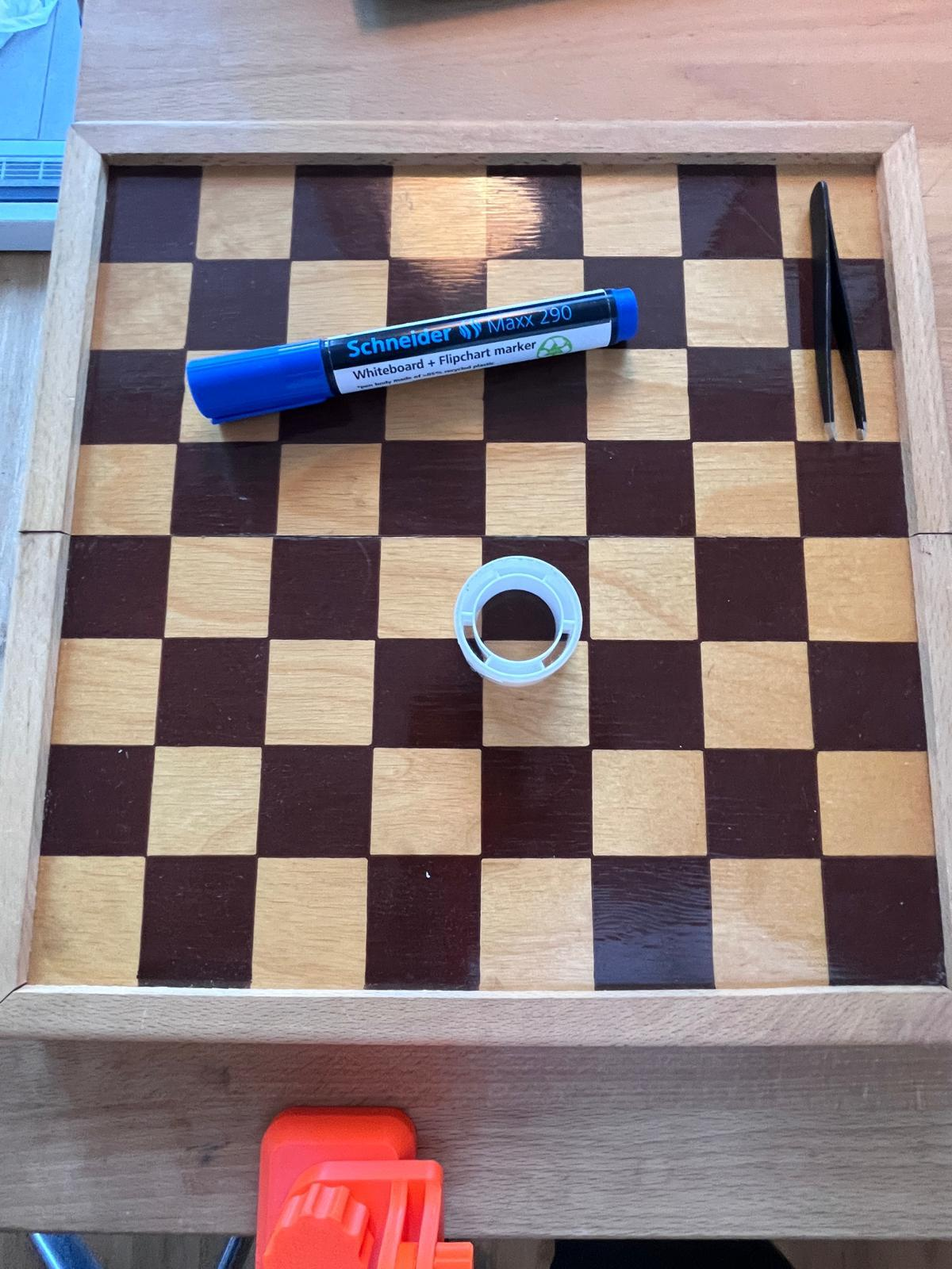marker: (187, 281, 635, 431)
tape: (451, 555, 584, 687)
tweezer: (804, 179, 884, 438)
